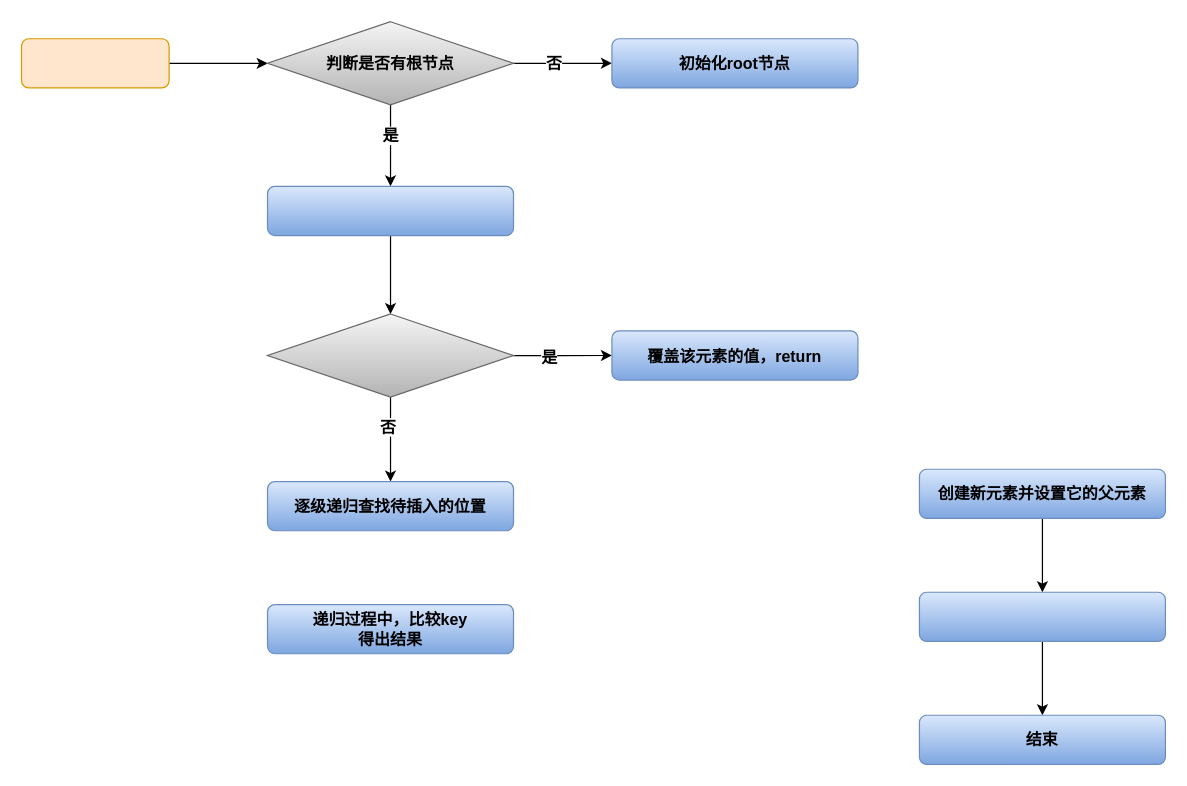
Image size: 1187x786. Some labels were removed from this diagram. Here are the shapes that lost their labels. From the top down, the centre of each, then its label:
At point 94,63: "调用put方法".
At point 390,210: "遍历红黑树，比较key".
At point 390,355: "是否有相同的key".
At point 1041,616: "维护红黑树平衡".
